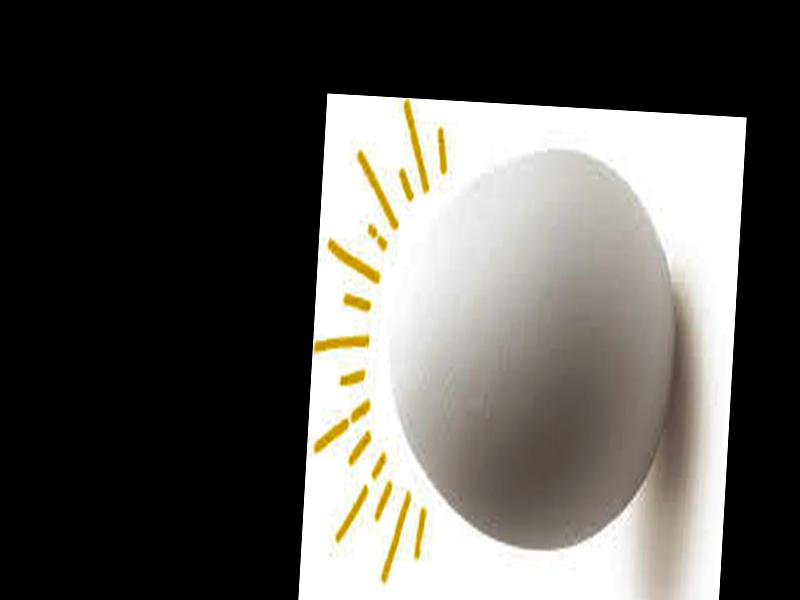Eggs: (380, 137, 685, 556)
